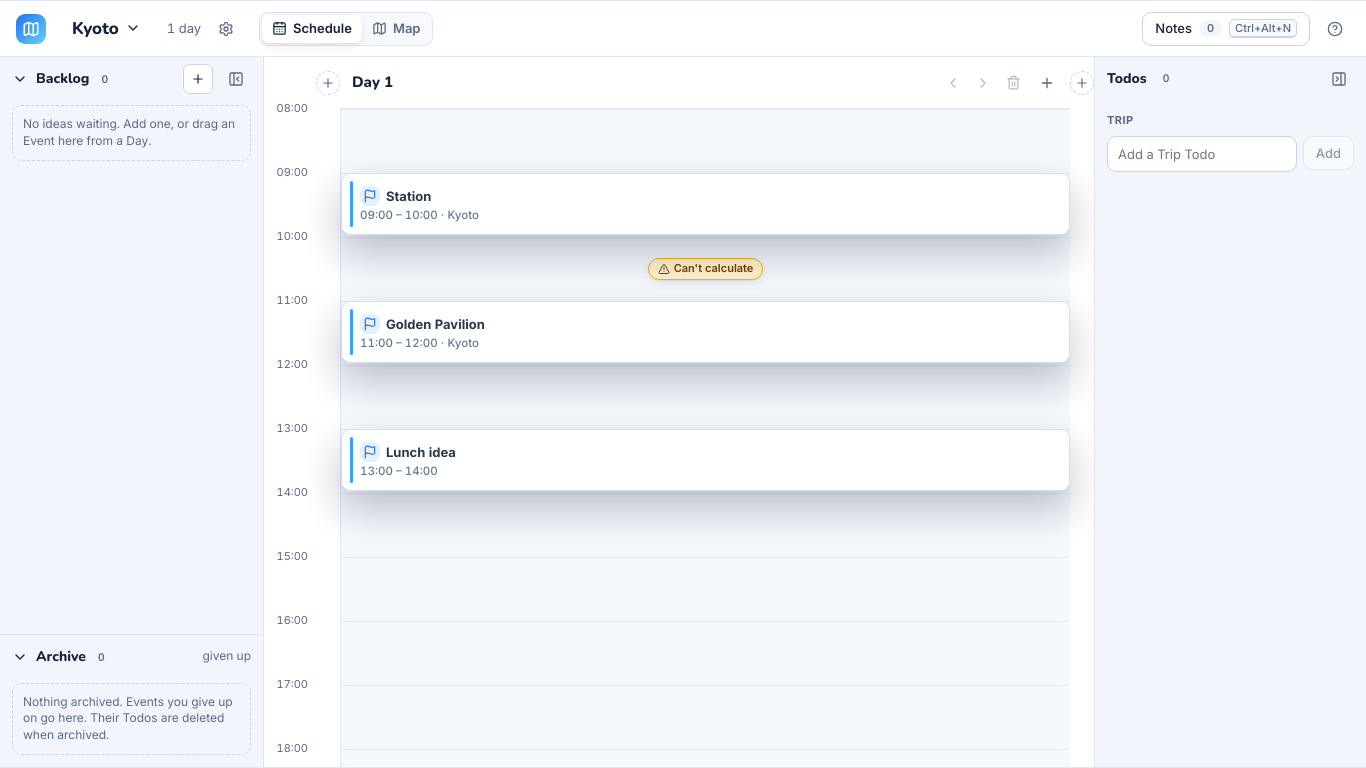
Test case: Legs on the timeline › shows 'Can't calculate' for a Drive Leg with no route, with the map link and a minutes field
Click the button with aria-label "Open the Travel" at coordinates (706, 269), box [648,258,763,280]
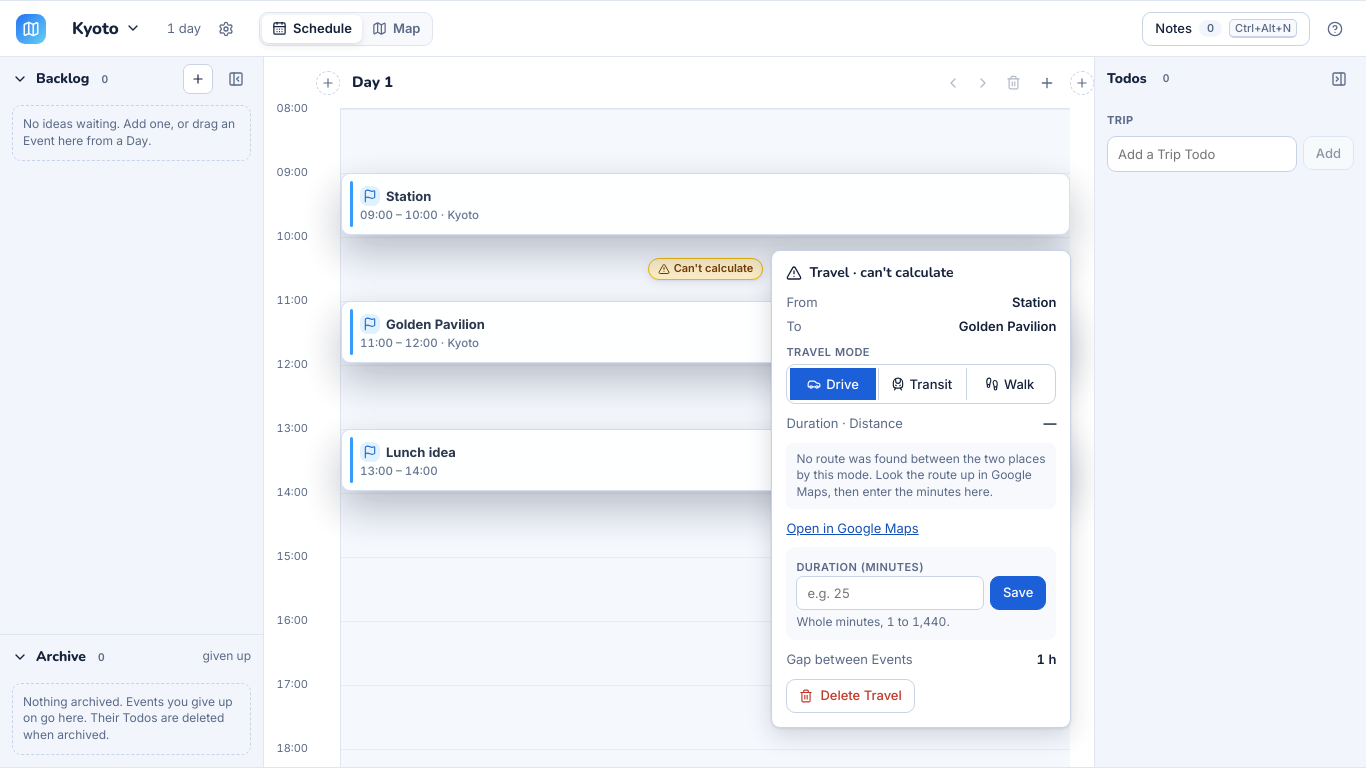
Check: the text "—" is shown, box [1043,415,1056,431]
Check: the text "No route was found" is shown, box [796,450,1046,499]
Check: the link "Open in Google Maps" is shown, box [786,519,919,537]
